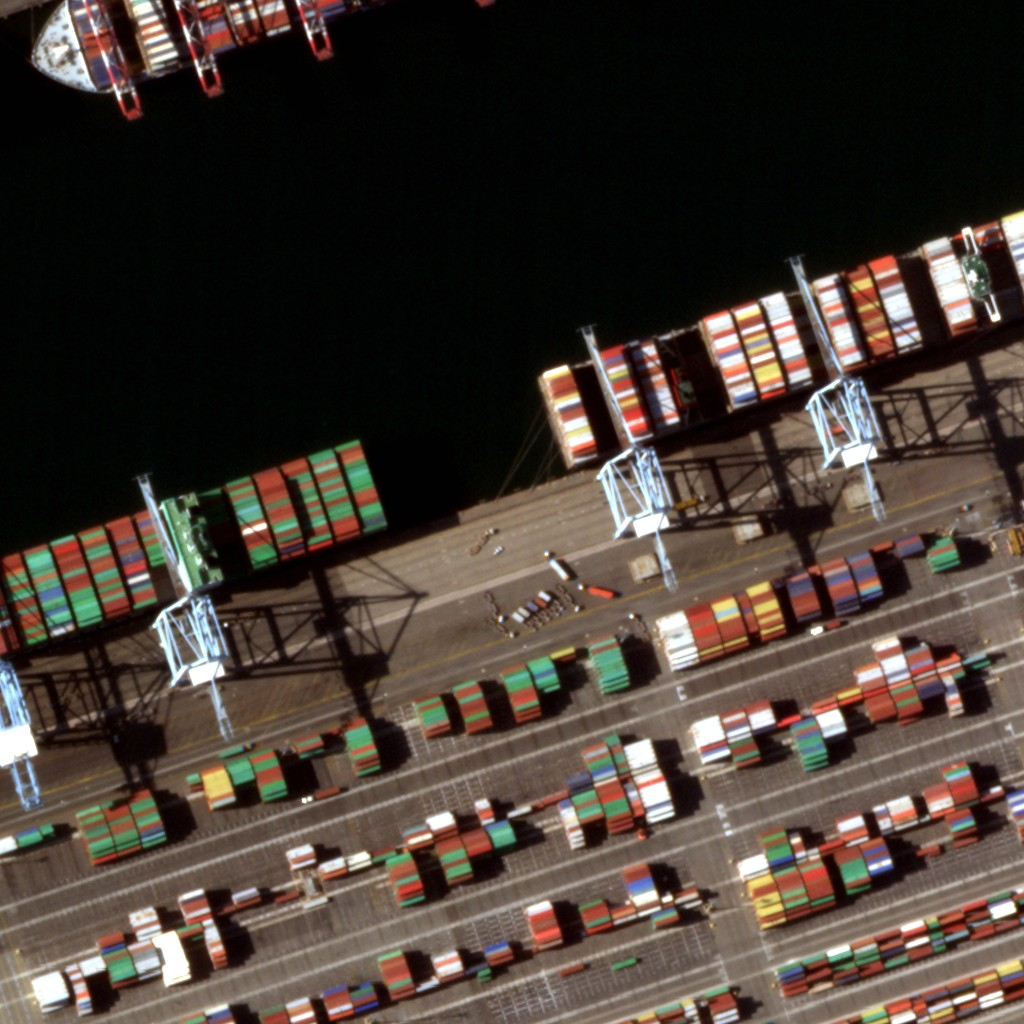boats: (546, 219, 1019, 467), (0, 441, 390, 659), (29, 2, 350, 91)
cranes: (582, 340, 694, 539), (788, 268, 886, 478), (146, 484, 242, 693)
